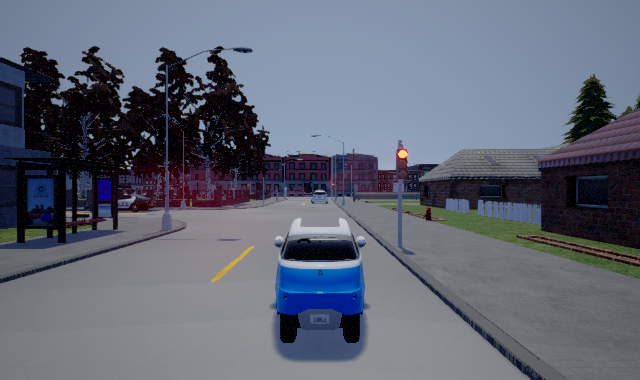traffic_light: (396, 143, 408, 185), (332, 184, 334, 189)
vehicle: (274, 217, 366, 343), (118, 192, 156, 212), (309, 189, 328, 203)
